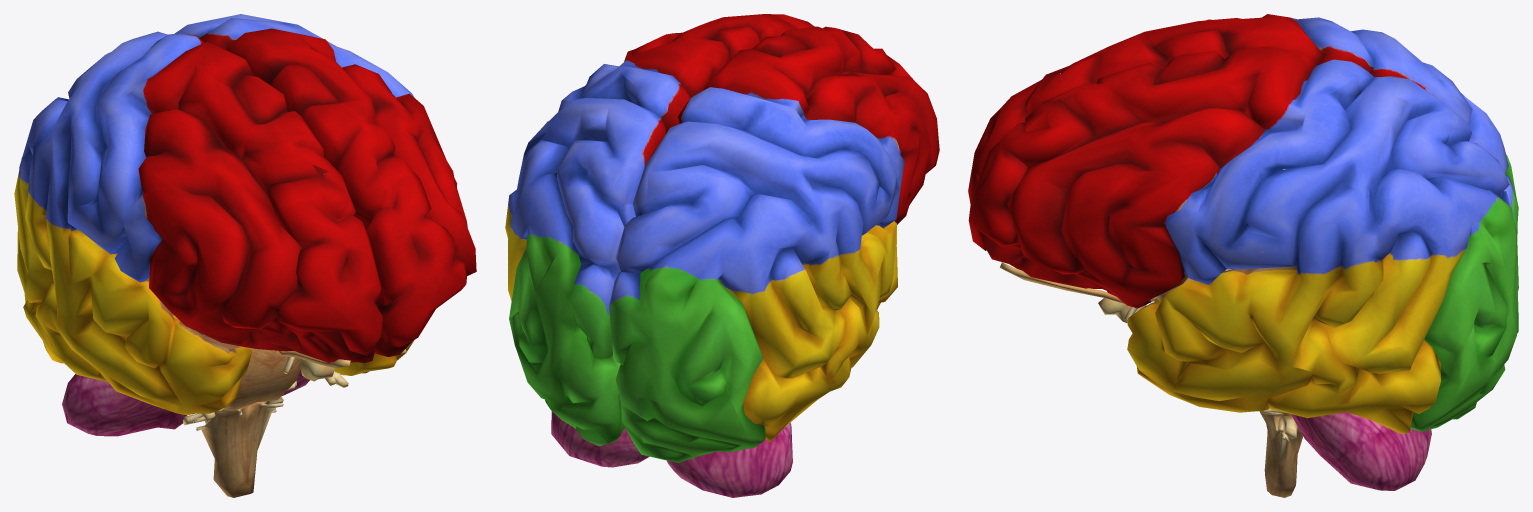
The model's file is cerebro.fbx.
3 views of the same model, side by side, from view 1: azimuth 30°, elevation 25°; view 2: azimuth 150°, elevation 25°; view 3: azimuth 270°, elevation 25° (orthographic). The views are drawn at different scales.
Parts seen in each view (by area): view 1: 03-brain-left-right-lobes, 03-brain-low; view 2: 03-brain-left-right-lobes, 03-brain-low; view 3: 03-brain-left-right-lobes, 03-brain-low, 03-brain-nerves.
Part boxes in pixels (x1=…): 03-brain-left-right-lobes: x1=14, y1=14, x2=476, y2=415; 03-brain-low: x1=62, y1=332, x2=348, y2=497; 03-brain-left-right-lobes: x1=505, y1=14, x2=939, y2=462; 03-brain-low: x1=551, y1=411, x2=792, y2=497; 03-brain-left-right-lobes: x1=968, y1=14, x2=1518, y2=434; 03-brain-low: x1=1098, y1=269, x2=1431, y2=497; 03-brain-nerves: x1=1000, y1=262, x2=1153, y2=304.
Bounding box in the file's own units: 26.37 × 32.96 × 35.91.
